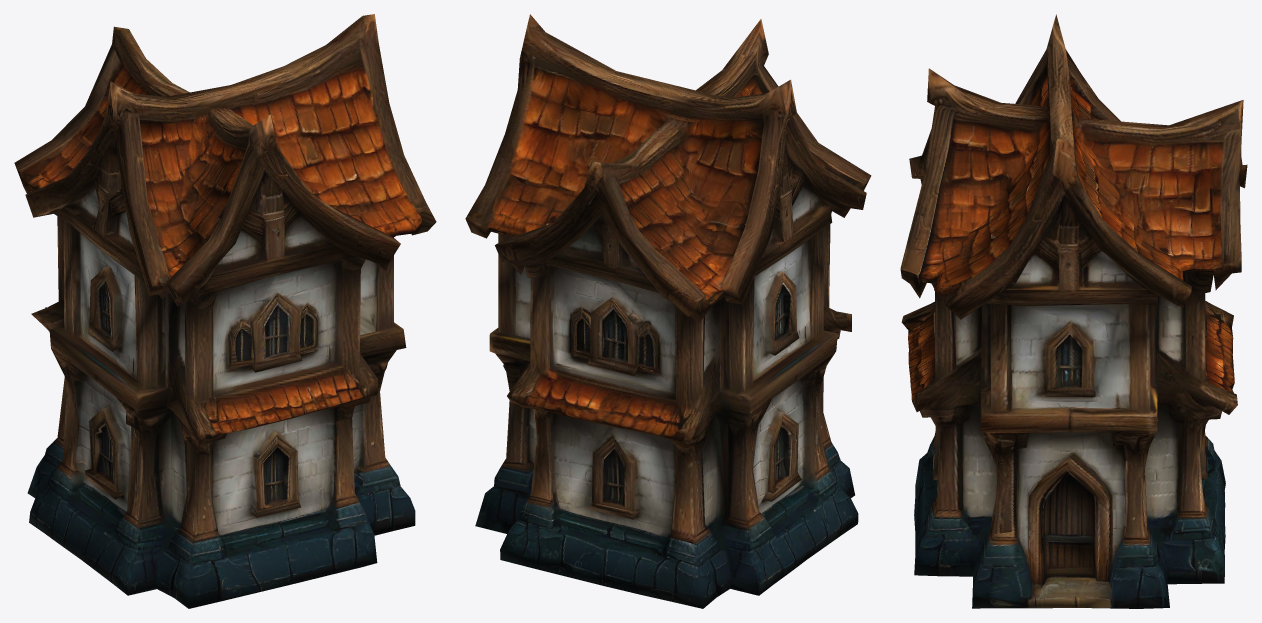
File: TownHouse.fbx
3 renders of one model, left to right at view 1: azimuth 30°, elevation 25°; view 2: azimuth 150°, elevation 25°; view 3: azimuth 270°, elevation 25°, orthographic.
Visible parts, largest first — view 1: tripo_node_4d788e43-0279-4151-bc9e-814af23022f2; view 2: tripo_node_4d788e43-0279-4151-bc9e-814af23022f2; view 3: tripo_node_4d788e43-0279-4151-bc9e-814af23022f2.
Boxes of the visible parts, x1,y1,x2,y2 form: tripo_node_4d788e43-0279-4151-bc9e-814af23022f2: (14,14,436,608); tripo_node_4d788e43-0279-4151-bc9e-814af23022f2: (465,14,871,608); tripo_node_4d788e43-0279-4151-bc9e-814af23022f2: (900,14,1247,608).
Size of the model in its own units: 64.35 by 100 by 66.65.
Materials: 1 (1 with a texture image).
